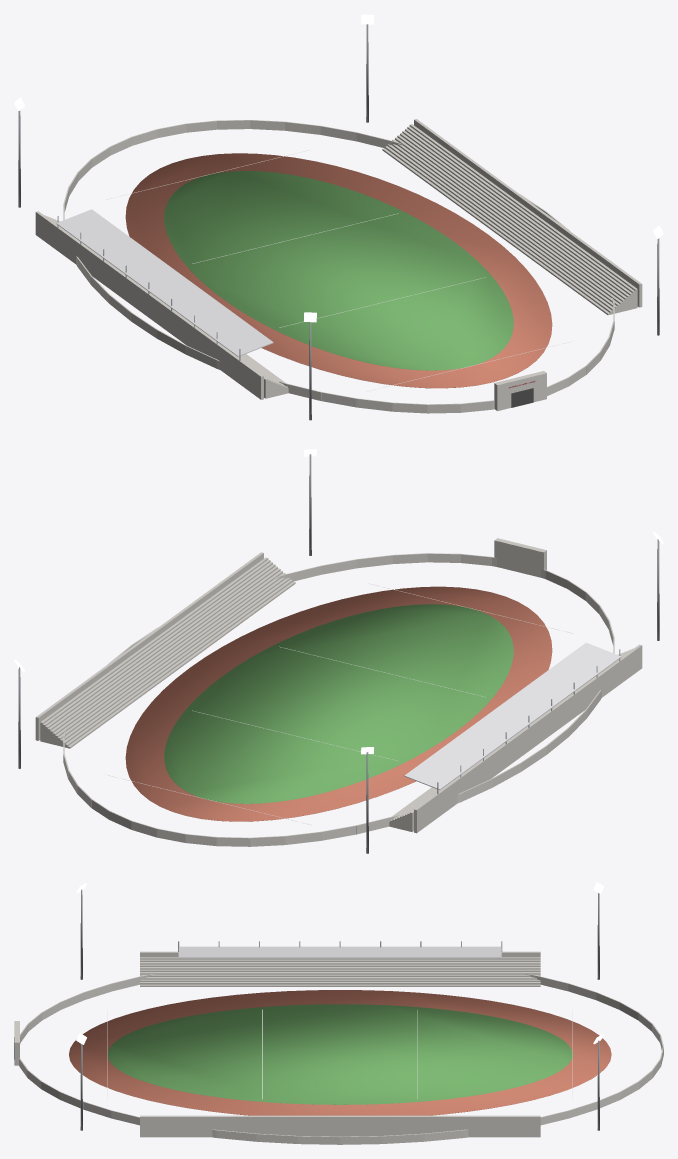
The model's file is stadium_ao.glb.
The picture shows the model from 3 angles, top to bottom: view 1: azimuth 30°, elevation 25°; view 2: azimuth 150°, elevation 25°; view 3: azimuth 270°, elevation 25°; orthographic projection. The views are drawn at different scales.
Parts seen in each view (by area): view 1: stadium; view 2: stadium; view 3: stadium.
Part boxes in pixels (<box>): stadium: <box>14,14,663,420</box>; stadium: <box>14,449,663,853</box>; stadium: <box>14,882,663,1144</box>.
Size of the model in its own units: 150 by 36.95 by 229.
